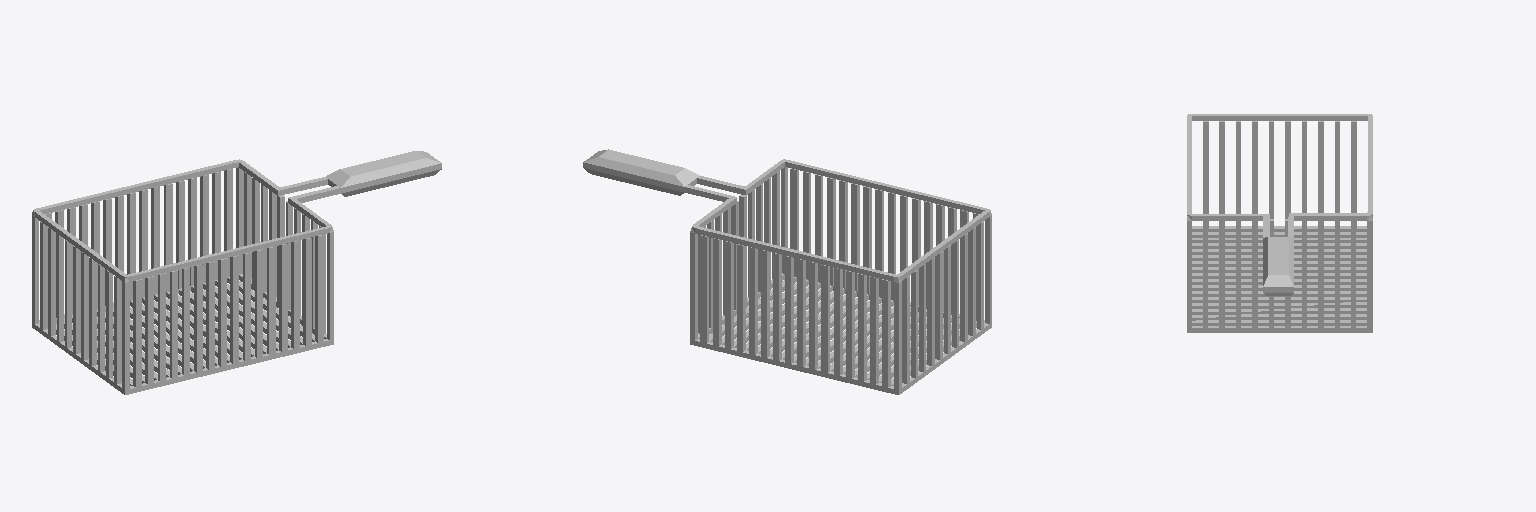
File: FryPan.obj
3 renders of one model, left to right at view 1: azimuth 30°, elevation 25°; view 2: azimuth 150°, elevation 25°; view 3: azimuth 270°, elevation 25°, orthographic.
Parts seen in each view (by area): view 1: Cube; view 2: Cube; view 3: Cube.
Part boxes in pixels (x1,y1,x2,y2): Cube: (32,151,441,394); Cube: (583,149,991,394); Cube: (1187,114,1372,332).
Size of the model in its own units: 24.61 by 8.21 by 11.2.